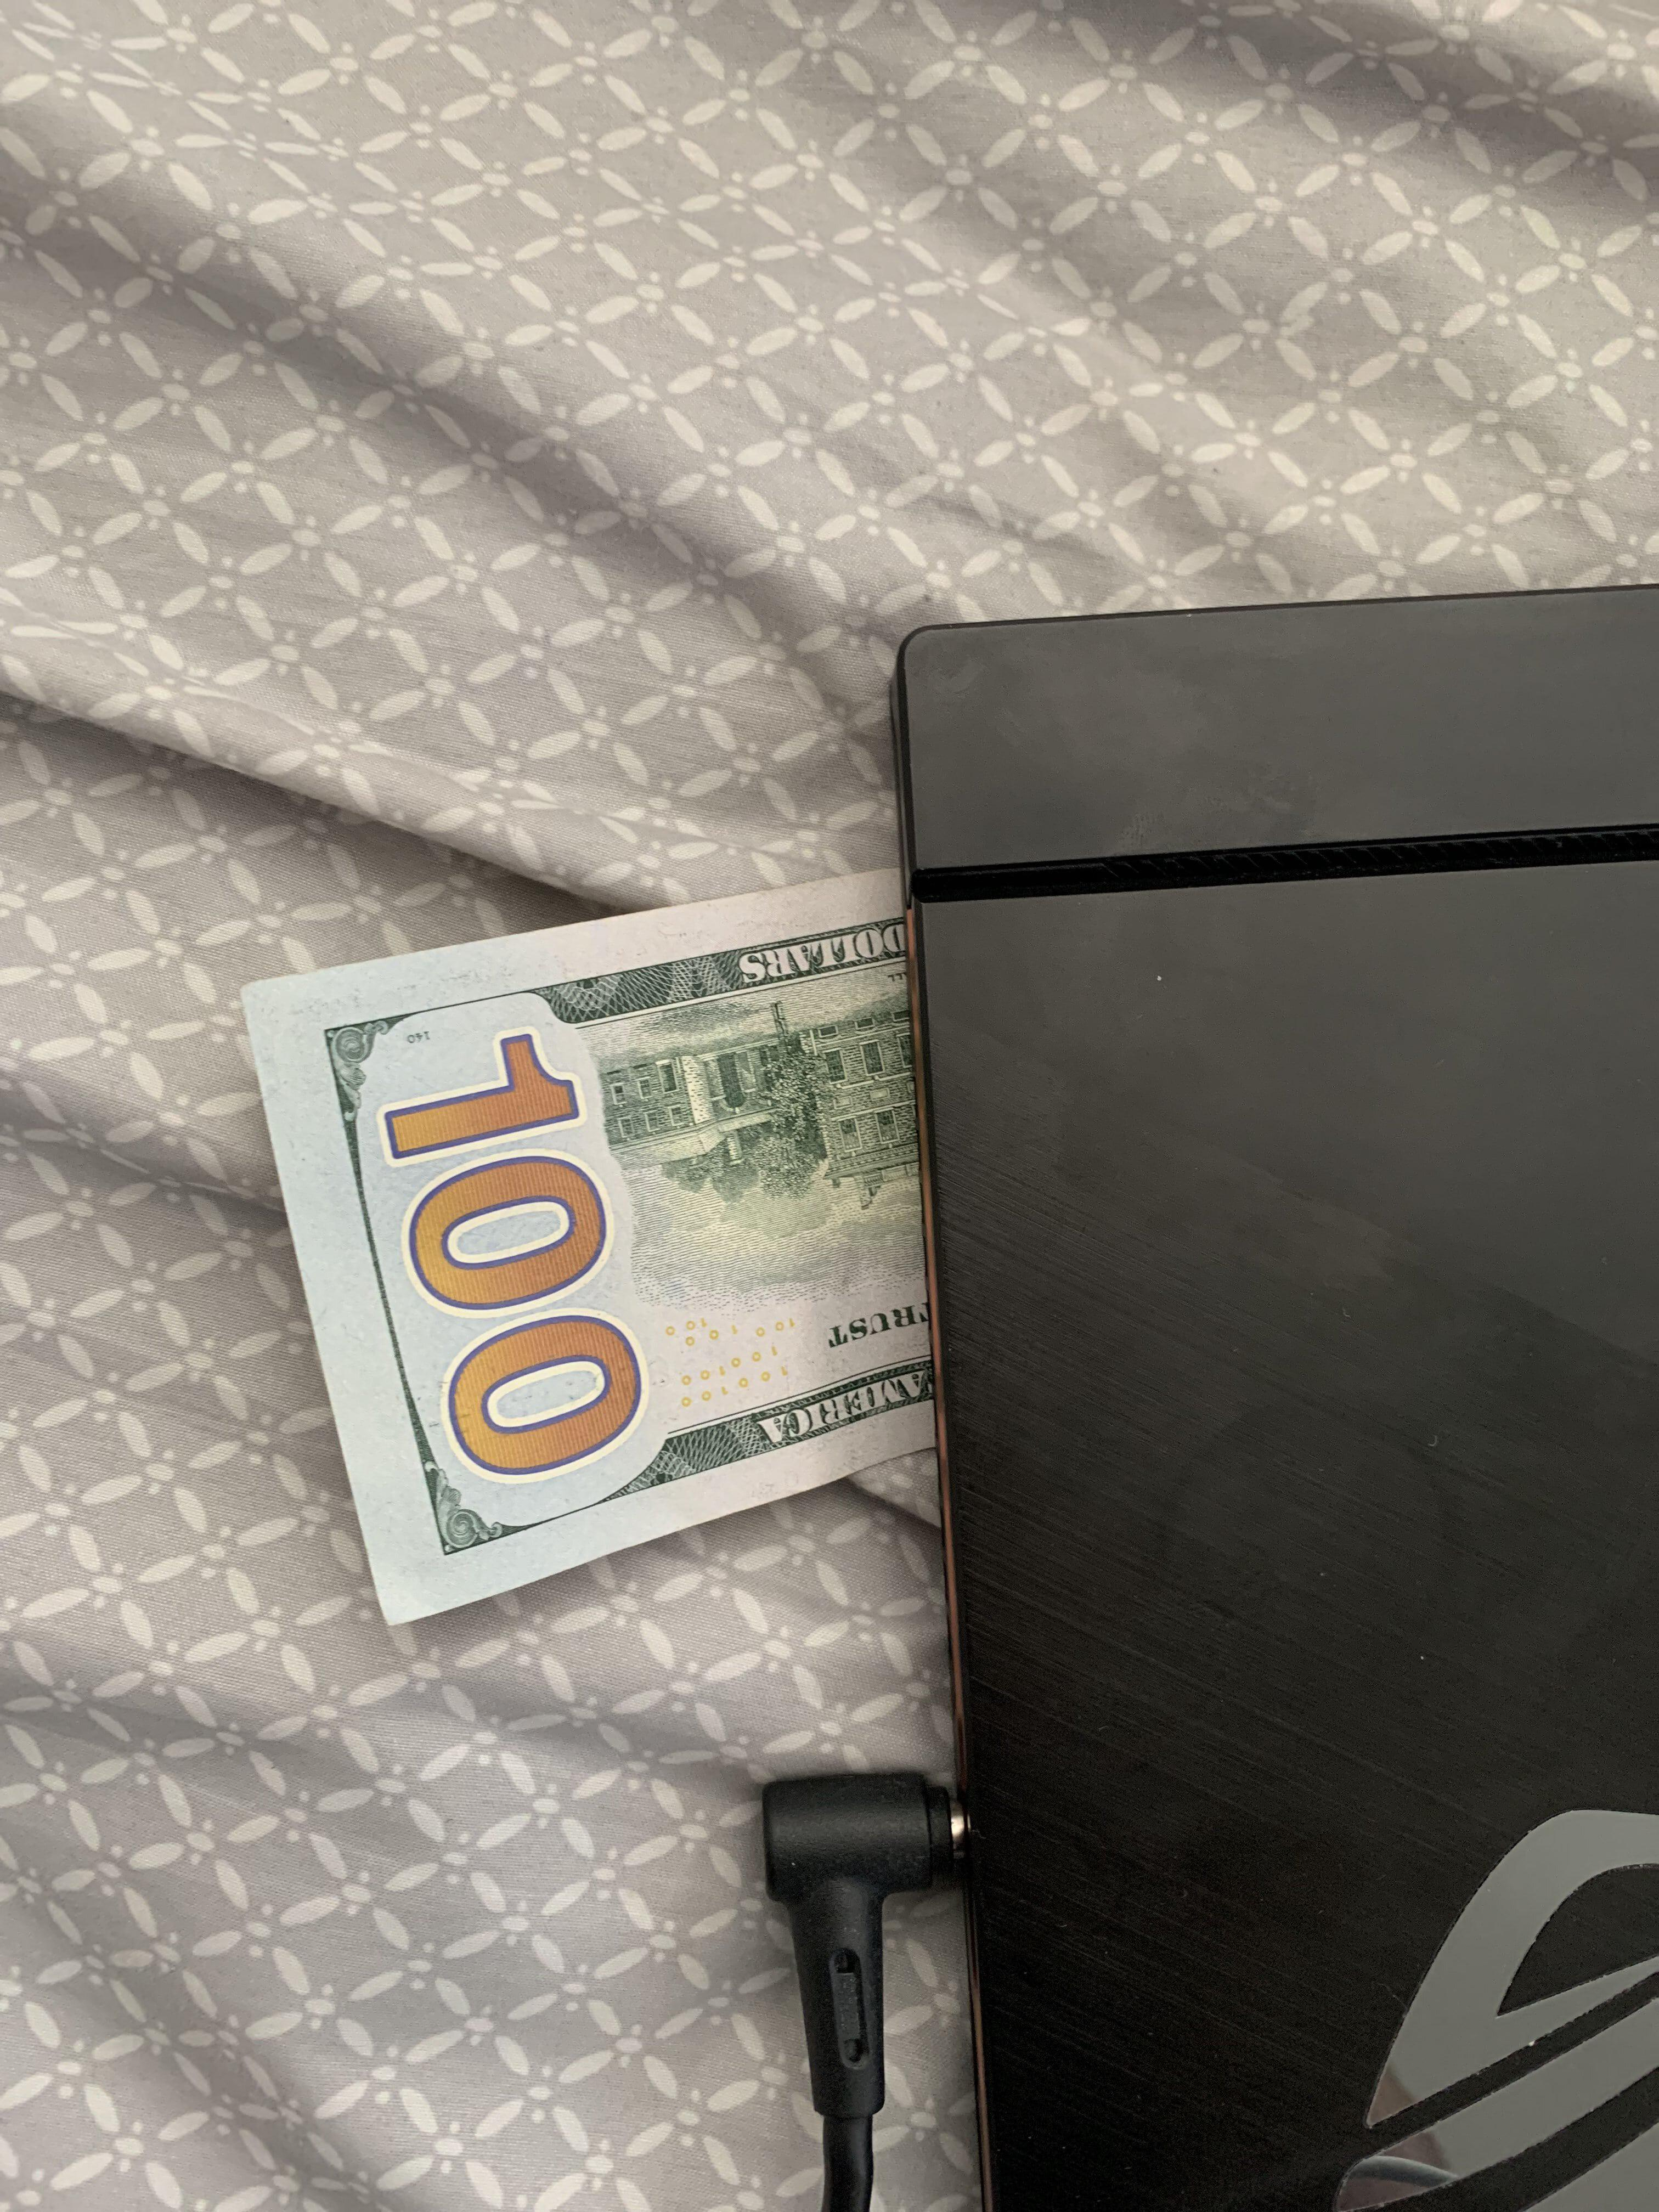HundredBill: (223, 777, 941, 1679)
